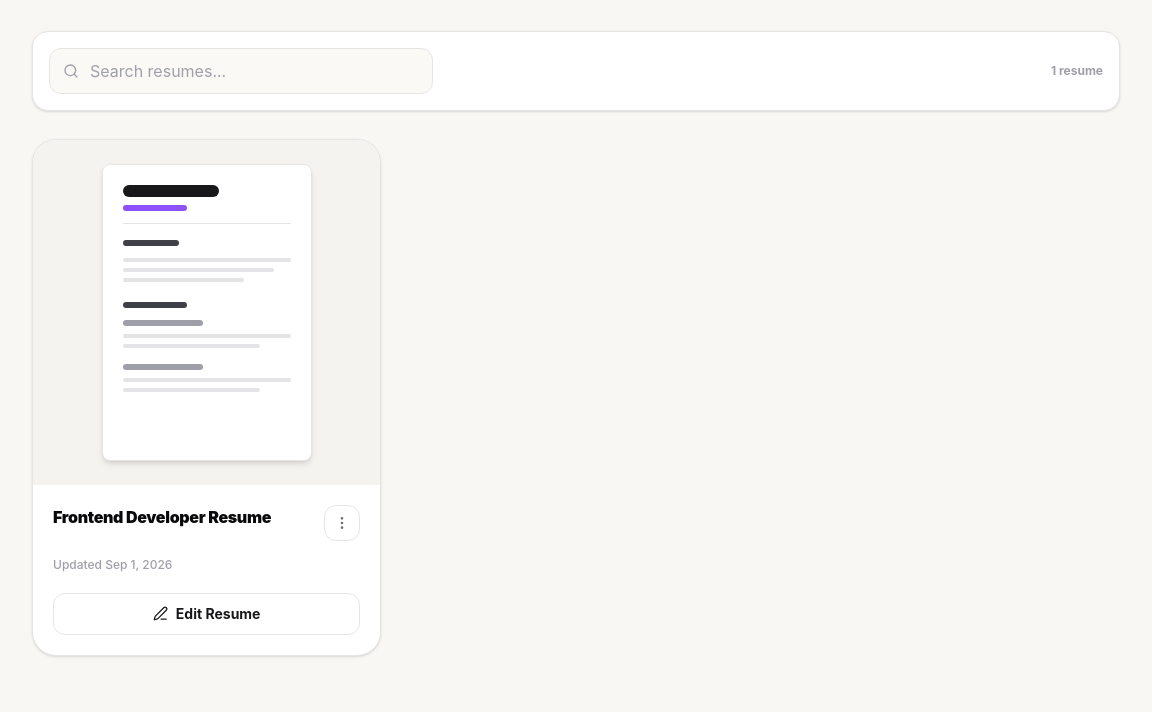
Scenario: ResumeCard rename › renames a resume with Enter
(page scrolled)
Step 1. Click the button named "Actions for Frontend Developer Resume" → (342, 523), box left=324, top=505, right=360, bottom=541
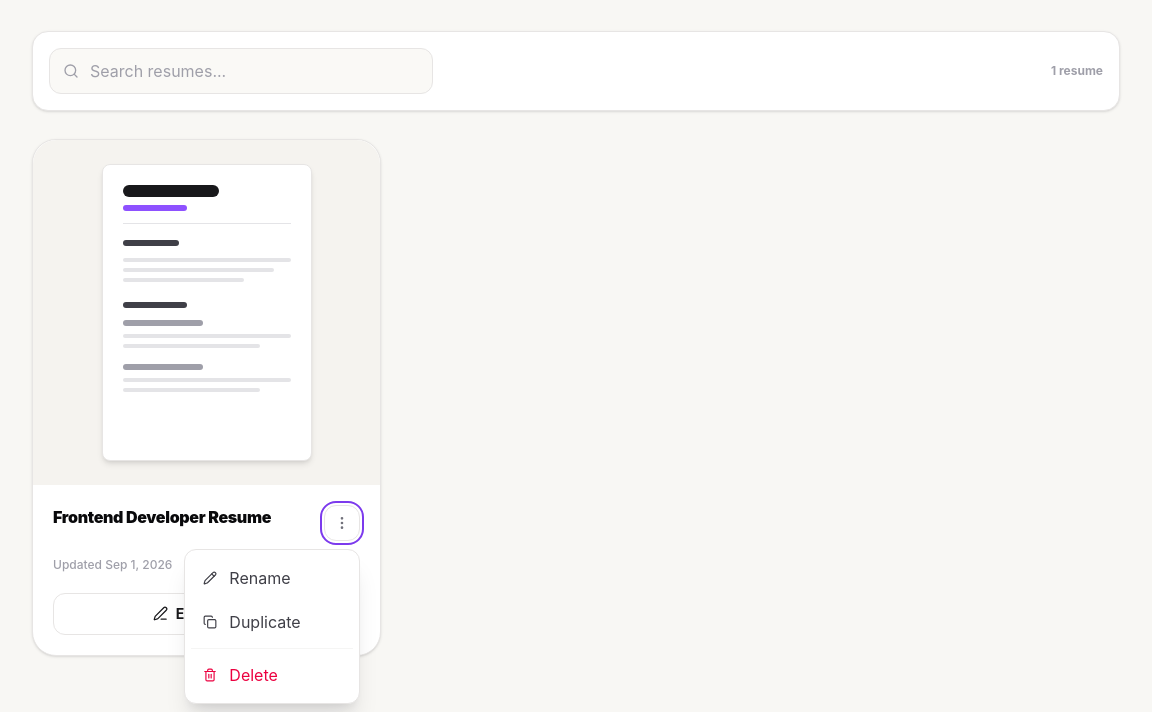
Step 2. Click the button "Rename" → (272, 578), box left=191, top=556, right=353, bottom=600
(page scrolled)
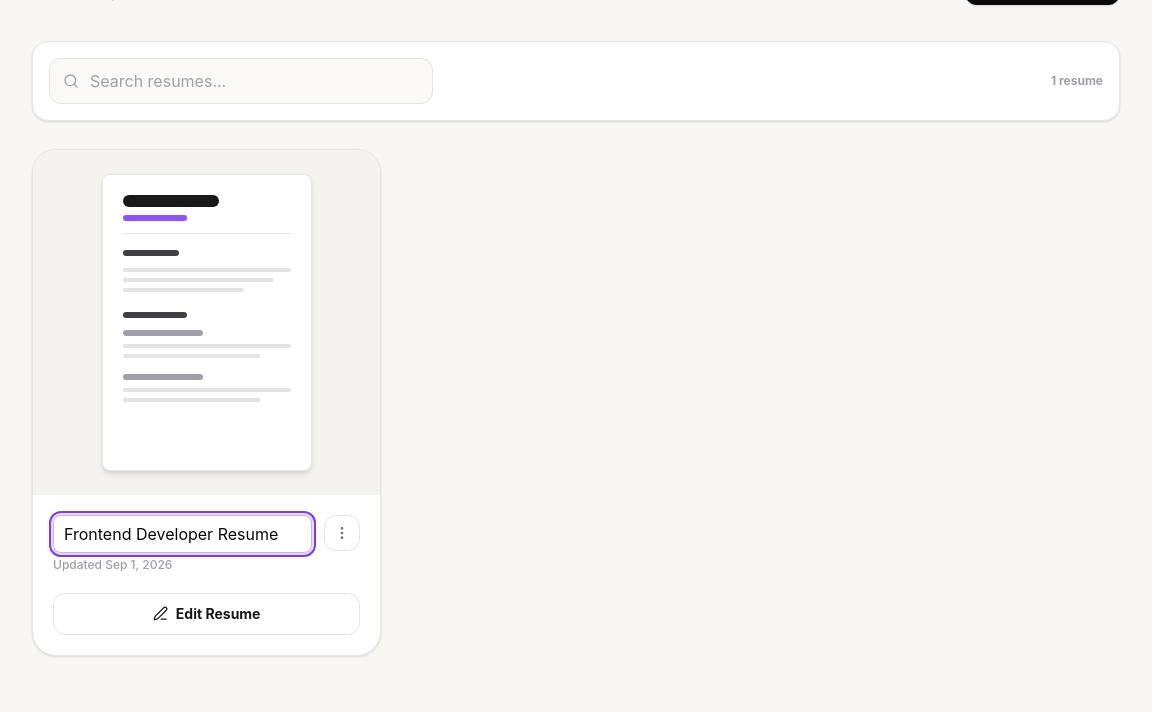
Step 3. Replace the text in the field named "Resume title" with "React Developer Resume" → (183, 534), box left=53, top=515, right=312, bottom=553
Then press Enter
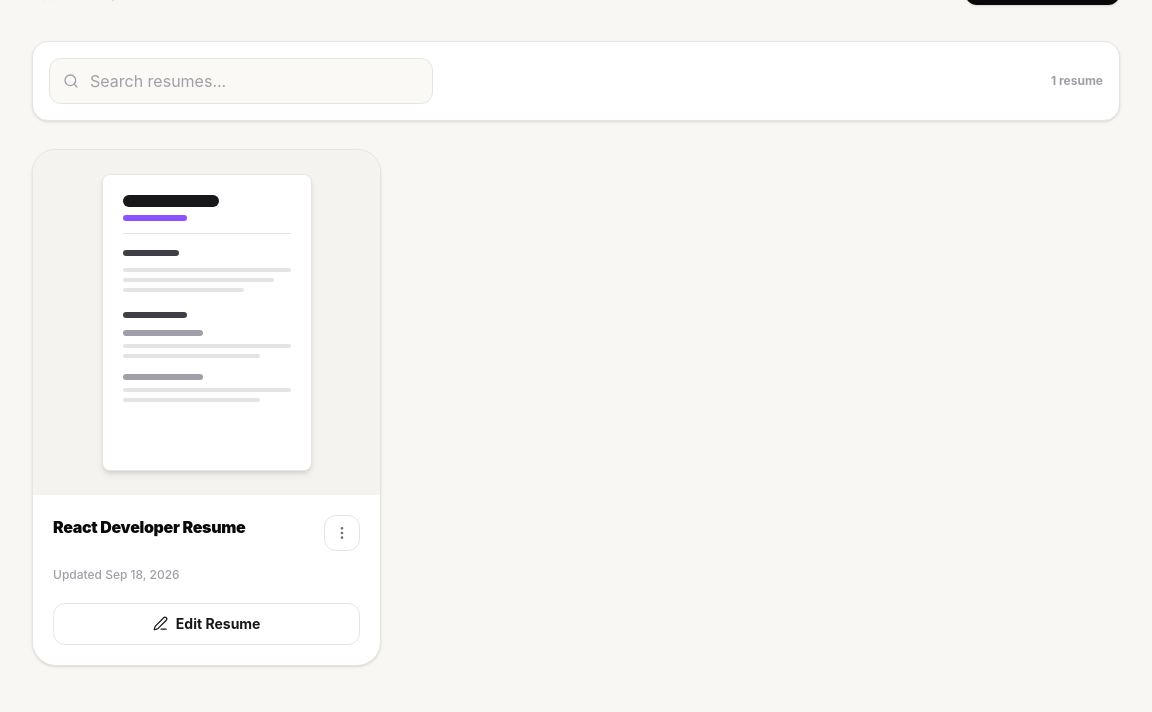
Expected: the heading "React Developer Resume" is shown, left=53, top=517, right=245, bottom=537
